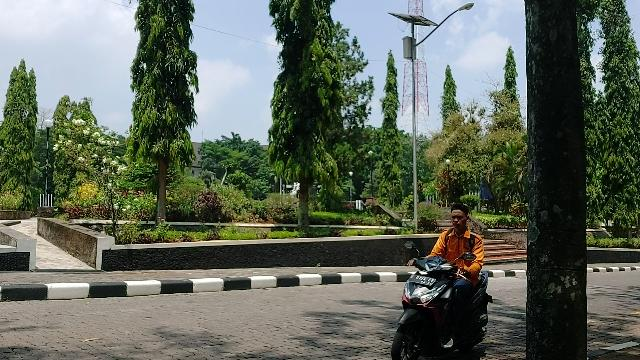motor: (393, 257, 494, 360)
non-helm: (452, 205, 470, 229)
